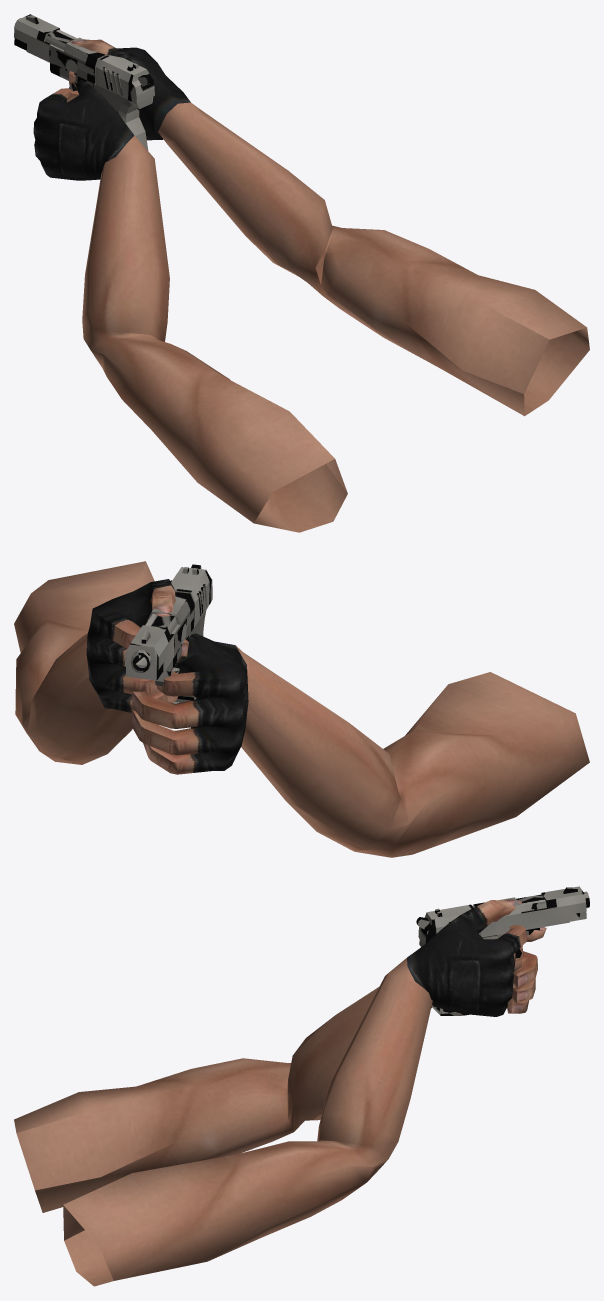
The model's file is gun_pistol.glb.
3 views of the same model, one above another, from view 1: azimuth 30°, elevation 25°; view 2: azimuth 150°, elevation 25°; view 3: azimuth 270°, elevation 25° (orthographic). The views are drawn at different scales.
Visible parts, largest first — view 1: body_ARMS, slide_QUAT, body_QUAT; view 2: body_ARMS, slide_QUAT, body_QUAT, body_QUATP; view 3: body_ARMS, slide_QUAT.
Boxes of the visible parts, <box> form: body_ARMS: <box>33,39,589,532</box>; slide_QUAT: <box>14,14,154,103</box>; body_QUAT: <box>50,63,153,135</box>; body_ARMS: <box>14,561,589,857</box>; slide_QUAT: <box>125,564,212,680</box>; body_QUAT: <box>155,608,207,686</box>; body_QUATP: <box>130,650,196,703</box>; body_ARMS: <box>14,899,546,1286</box>; slide_QUAT: <box>416,886,586,944</box>.
Size of the model in its own units: 53.19 by 40.45 by 67.96.
3 materials, 3 textured.
